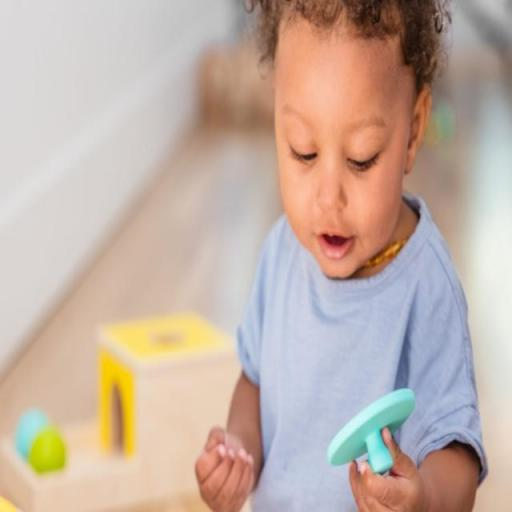baby: (196, 0, 487, 511)
